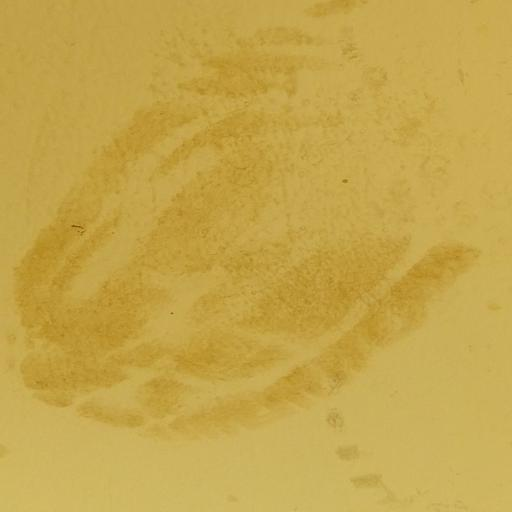stain: (17, 25, 490, 490)
